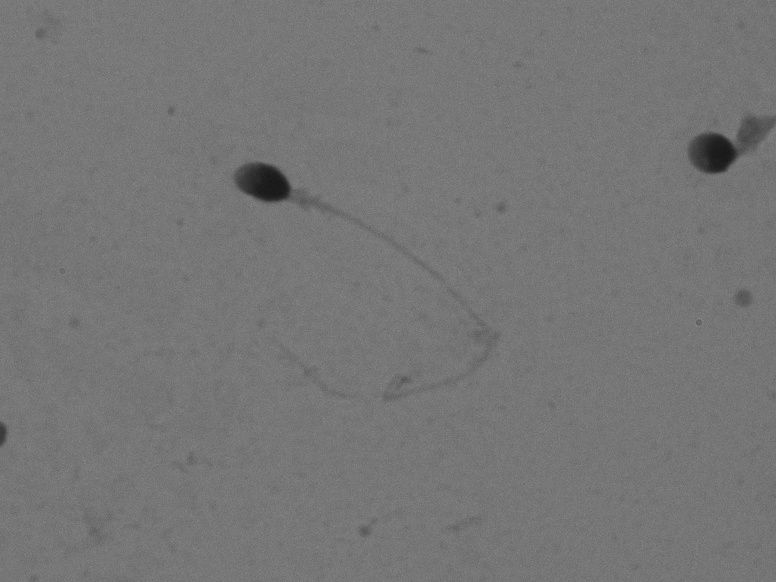Abnormal: (164, 136, 530, 420)
